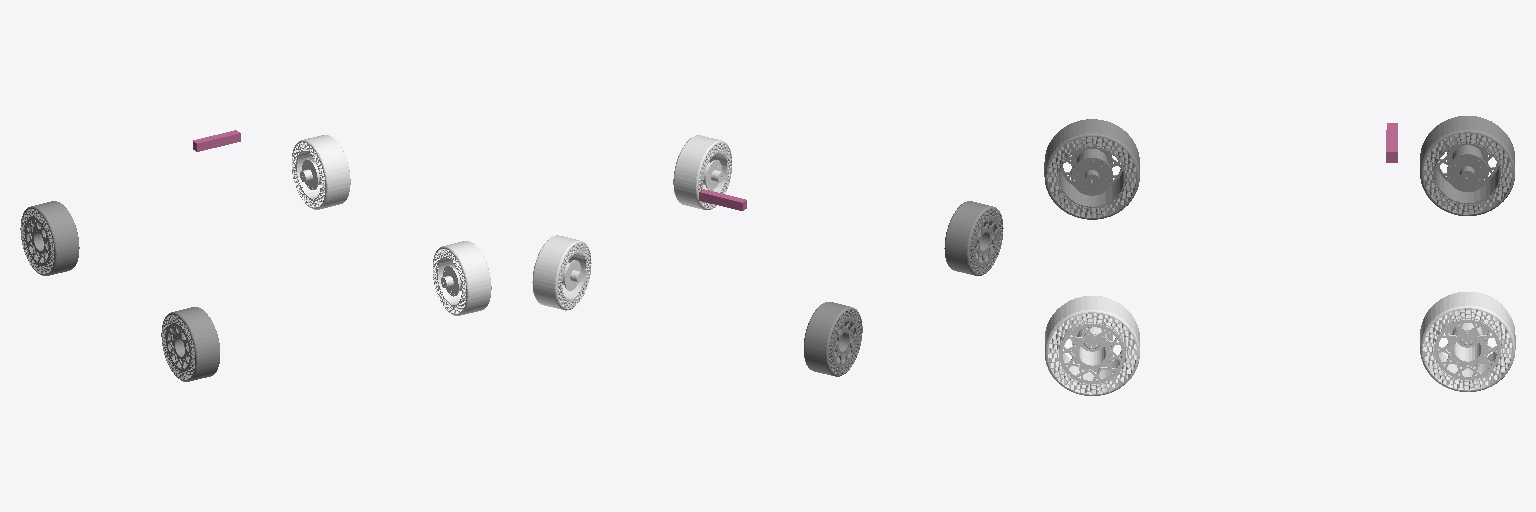
URDF robot description (sasi_solid_v12):
<?xml version="1.0" encoding="utf-8"?>
<!-- This URDF was automatically created by SolidWorks to URDF Exporter! Originally created by [author] ([email redacted]) 
     Commit Version: 1.6.0-1-g15f4949  Build Version: 1.6.7594.29634
     For more information, please see http://wiki.ros.org/sw_urdf_exporter -->
<robot
  name="sasi_solid_v12" xmlns:xacro="http://www.ros.org/wiki/xacro">

  <!-- <link name="dummy">
  </link>
  
  <joint name="dummy_joint" type="fixed">
    <parent link="dummy"/>
    <child link="base_link"/>
  </joint> -->

  <link
    name="base_link">
    <inertial>
      <origin
        xyz="-0.231091488414938 0.283170654508655 0.0907756925294726"
        rpy="0 0 0" />
      <mass
        value="4.04974915471266" />
      <inertia
        ixx="0.0343167702681818"
        ixy="-2.95693498374549E-08"
        ixz="-3.77683449159235E-10"
        iyy="0.0196592423407753"
        iyz="-5.11903308272849E-05"
        izz="0.0450230429432222" />
    </inertial>
    <visual>
      <origin
        xyz="0 0 0"
        rpy="0 0 0" />
      <geometry>
        <mesh
          filename="package://sasi_solid_v12/meshes/base_link.STL" />
      </geometry>
      <material
        name="">
        <color
          rgba="0.752941176470588 0.752941176470588 0.752941176470588 1" />
      </material>
    </visual>
    <collision>
      <origin
        xyz="0 0 0"
        rpy="0 0 0" />
      <geometry>
        <mesh
          filename="package://sasi_solid_v12/meshes/base_link.STL" />
      </geometry>
    </collision>
  </link>
  <link
    name="rigth_front">
    <inertial>
      <origin
        xyz="0.00036673709064694 0.0724396234696468 0.000114307396850921"
        rpy="0 0 0" />
      <mass
        value="1.52825500377755" />
      <inertia
        ixx="0.00881094374513575"
        ixy="-6.47853797090928E-18"
        ixz="-2.68882138776405E-17"
        iyy="0.0153748645829108"
        iyz="2.69498937255981E-17"
        izz="0.00881094374005171" />
    </inertial>
    <visual>
      <origin
        xyz="0 0 0"
        rpy="0 0 0" />
      <geometry>
        <mesh
          filename="package://sasi_solid_v12/meshes/rigth_front.STL" />
      </geometry>
      <material
        name="">
        <color
          rgba="0.627450980392157 0.627450980392157 0.627450980392157 1" />
      </material>
    </visual>
    <collision>
      <origin
        xyz="0 0 0"
        rpy="0 0 0" />
      <geometry>
        <mesh
          filename="package://sasi_solid_v12/meshes/rigth_front.STL" />
      </geometry>
    </collision>
  </link>
  <joint
    name="rigth_fronty"
    type="continuous">
    <origin
      xyz="-0.70359 0.79776 -0.075106"
      rpy="-3.1416 0.75556 -1.5708" />
    <parent
      link="base_link" />
    <child
      link="rigth_front" />
    <axis
      xyz="0 1 0" />
  </joint>
  <link
    name="rigth_back">
    <inertial>
      <origin
        xyz="-0.000382814127539072 -0.0724396234696458 3.18687690905317E-05"
        rpy="0 0 0" />
      <mass
        value="1.52825500377755" />
      <inertia
        ixx="0.00881094374513578"
        ixy="5.08079478164671E-18"
        ixz="-4.22838847269347E-17"
        iyy="0.0153748645829109"
        iyz="4.44833452653767E-17"
        izz="0.00881094374005174" />
    </inertial>
    <visual>
      <origin
        xyz="0 0 0"
        rpy="0 0 0" />
      <geometry>
        <mesh
          filename="package://sasi_solid_v12/meshes/rigth_back.STL" />
      </geometry>
      <material
        name="">
        <color
          rgba="0.627450980392157 0.627450980392157 0.627450980392157 1" />
      </material>
    </visual>
    <collision>
      <origin
        xyz="0 0 0"
        rpy="0 0 0" />
      <geometry>
        <mesh
          filename="package://sasi_solid_v12/meshes/rigth_back.STL" />
      </geometry>
    </collision>
  </link>
  <joint
    name="rigth_backy"
    type="continuous">
    <origin
      xyz="-0.70359 -0.18553 -0.085774"
      rpy="3.1416 1.1197 1.5708" />
    <parent
      link="base_link" />
    <child
      link="rigth_back" />
    <axis
      xyz="0 -1 0" />
  </joint>
  <link
    name="left_front">
    <inertial>
      <origin
        xyz="-4.55191440096314E-15 0.0724396234696457 -1.4432899320127E-15"
        rpy="0 0 0" />
      <mass
        value="1.52825500377756" />
      <inertia
        ixx="0.00881094374053719"
        ixy="-1.01929157001527E-17"
        ixz="1.4941260034762E-12"
        iyy="0.0153748645829109"
        iyz="6.05059594308728E-18"
        izz="0.0088109437446503" />
    </inertial>
    <visual>
      <origin
        xyz="0 0 0"
        rpy="0 0 0" />
      <geometry>
        <mesh
          filename="package://sasi_solid_v12/meshes/left_front.STL" />
      </geometry>
      <material
        name="">
        <color
          rgba="0.96078431372549 0.96078431372549 0.964705882352941 1" />
      </material>
    </visual>
    <collision>
      <origin
        xyz="0 0 0"
        rpy="0 0 0" />
      <geometry>
        <mesh
          filename="package://sasi_solid_v12/meshes/left_front.STL" />
      </geometry>
    </collision>
  </link>
  <joint
    name="left_fronty"
    type="continuous">
    <origin
      xyz="0.24141 0.798 -0.074681"
      rpy="3.1416 1.251 1.5708" />
    <parent
      link="base_link" />
    <child
      link="left_front" />
    <axis
      xyz="0 -1 0" />
  </joint>
  <link
    name="left_back">
    <inertial>
      <origin
        xyz="-5.55111512312578E-17 0.0724396234696456 5.16253706450698E-15"
        rpy="0 0 0" />
      <mass
        value="1.52825500377756" />
      <inertia
        ixx="0.00881094374491599"
        ixy="-3.35765263869818E-18"
        ixz="1.03396902585012E-12"
        iyy="0.0153748645829109"
        iyz="9.25316516289008E-17"
        izz="0.00881094374027152" />
    </inertial>
    <visual>
      <origin
        xyz="0 0 0"
        rpy="0 0 0" />
      <geometry>
        <mesh
          filename="package://sasi_solid_v12/meshes/left_back.STL" />
      </geometry>
      <material
        name="">
        <color
          rgba="0.96078431372549 0.96078431372549 0.964705882352941 1" />
      </material>
    </visual>
    <collision>
      <origin
        xyz="0 0 0"
        rpy="0 0 0" />
      <geometry>
        <mesh
          filename="package://sasi_solid_v12/meshes/left_back.STL" />
      </geometry>
    </collision>
  </link>
  <joint
    name="left_backy"
    type="continuous">
    <origin
      xyz="0.24141 -0.18528 -0.086194"
      rpy="3.1416 0.13286 1.5708" />
    <parent
      link="base_link" />
    <child
      link="left_back" />
    <axis
      xyz="0 -1 0" />
  </joint>

<transmission name="left_front_tran">
  <type>transmission_interface/SimpleTransmission</type>
  <joint name="left_frontx">
    <hardwareInterface>hardware_interface/EffortJointInterface</hardwareInterface>
  </joint>
  <actuator name="left_front_actr">
    <hardwareInterface>hardware_interface/EffortJointInterface</hardwareInterface>
    <mechanicalReduction>1</mechanicalReduction>
  </actuator>
</transmission>

<transmission name="left_back_tran">
  <type>transmission_interface/SimpleTransmission</type>
  <joint name="left_backx">
    <hardwareInterface>hardware_interface/EffortJointInterface</hardwareInterface>
  </joint>
  <actuator name="left_back_actr">
    <hardwareInterface>hardware_interface/EffortJointInterface</hardwareInterface>
    <mechanicalReduction>1</mechanicalReduction>
  </actuator>
</transmission>

<transmission name="rigth_back_tran">
  <type>transmission_interface/SimpleTransmission</type>
  <joint name="rigth_backx">
    <hardwareInterface>hardware_interface/EffortJointInterface</hardwareInterface>
  </joint>
  <actuator name="rigth_back_actr">
    <hardwareInterface>hardware_interface/EffortJointInterface</hardwareInterface>
    <mechanicalReduction>1</mechanicalReduction>
  </actuator>
</transmission>

<transmission name="rigth_front_tran">
  <type>transmission_interface/SimpleTransmission</type>
  <joint name="rigth_frontx">
    <hardwareInterface>hardware_interface/EffortJointInterface</hardwareInterface>
  </joint>
  <actuator name="rigth_front_actr">
    <hardwareInterface>hardware_interface/EffortJointInterface</hardwareInterface>
    <mechanicalReduction>1</mechanicalReduction>
  </actuator>
</transmission>

<!--ADD SKID STEERING-->
<gazebo>
  <plugin name="skid_steer_drive_controller" filename="libgazebo_ros_skid_steer_drive.so">
    <updateRate>100.0</updateRate>
    <robotNamespace>/</robotNamespace>
    <leftFrontJoint>left_fronty</leftFrontJoint>
    <rightFrontJoint>rigth_fronty</rightFrontJoint>
    <leftRearJoint>left_backy</leftRearJoint>
    <rightRearJoint>rigth_backy</rightRearJoint>
    <wheelSeparation>1.02</wheelSeparation>
    <wheelDiameter>0.25</wheelDiameter>
    <robotBaseFrame>base_link</robotBaseFrame>
    <torque>15</torque>
    <topicName>cmd_vel</topicName>
    <odometryTopic>odom</odometryTopic>
    <odometryFrame>odom</odometryFrame>
    <odometrySource>1</odometrySource>
    <broadcastTF>true</broadcastTF>
  </plugin>
</gazebo>
<!-- 
#ADD VELODYNE 3D LIDAR#
<joint name="velodyne_base_mount_joint" type="fixed">
    <origin rpy="0 0 1.55" xyz="-0.23 0.65 0.15"/>
    <parent link="base_link"/>
    <child link="velodyne_base_link"/>
  </joint>
  <link name="velodyne_base_link">
    <inertial>
      <mass value="0.83"/>
      <origin xyz="0 0 0.03585"/>
      <inertia ixx="0.000908059425" ixy="0" ixz="0" iyy="0.000908059425" iyz="0" izz="0.0011049624"/>
    </inertial>
    <visual>
      <geometry>
        <mesh filename="package://velodyne_description/meshes/VLP16_base_1.dae"/>
      </geometry>
    </visual>
    <visual>
      <geometry>
        <mesh filename="package://velodyne_description/meshes/VLP16_base_2.dae"/>
      </geometry>
    </visual>
    <collision>
      <origin rpy="0 0 0" xyz="0 0 0.03585"/>
      <geometry>
        <cylinder length="0.0717" radius="0.0516"/>
      </geometry>
    </collision>
  </link>
  <joint name="velodyne_base_scan_joint" type="fixed">
    <origin rpy="0 0 0" xyz="0 0 0.0377"/>
    <parent link="velodyne_base_link"/>
    <child link="velodyne"/>
  </joint>
  <link name="velodyne">
    <inertial>
      <mass value="0.01"/>
      <origin xyz="0 0 0"/>
      <inertia ixx="1e-7" ixy="0" ixz="0" iyy="1e-7" iyz="0" izz="1e-7"/>
    </inertial>
    <visual>
      <origin xyz="0 0 -0.0377"/>
      <geometry>
        <mesh filename="package://velodyne_description/meshes/VLP16_scan.dae"/>
      </geometry>
    </visual>
  </link>

  <gazebo reference="velodyne">
    <sensor name="velodyne-VLP16" type="ray">
      <pose>0 0 0 0 0 0</pose>
      <visualize>false</visualize>
      <update_rate>10</update_rate>
      <ray>
        <scan>
          <horizontal>
            <samples>440</samples>
            <resolution>1</resolution>
            <min_angle>-1.54</min_angle>
            <max_angle>1.54</max_angle>
          </horizontal>
          <vertical>
            <samples>16</samples>
            <resolution>1</resolution>
            <min_angle>-0.13</min_angle>
            <max_angle> 0.13</max_angle>
          </vertical>
        </scan>
        <range>
          <min>0.3</min>
          <max>131.0</max>
          <resolution>0.001</resolution>
        </range>
        <noise>
          <type>gaussian</type>
          <mean>0.0</mean>
          <stddev>0.0</stddev>
        </noise>
      </ray>
      <plugin filename="libgazebo_ros_velodyne_laser.so" name="gazebo_ros_laser_controller">
        <topicName>/velodyne_points</topicName>
        <frameName>velodyne</frameName>
        <organize_cloud>false</organize_cloud>
        <min_range>0.9</min_range>
        <max_range>130.0</max_range>
        <gaussianNoise>0.008</gaussianNoise>
      </plugin>
    </sensor>
  </gazebo>
 -->
<!-- 2D lidar --> 
<gazebo reference="hokuyo_link">
  <sensor type="ray" name="head_hokuyo_sensor">
    <pose>0 0 0 0 0 0</pose>
    <visualize>true</visualize>
    <update_rate>40</update_rate>
    <ray>
      <scan>
        <horizontal>
         <samples>720</samples>
         <resolution>1</resolution>
         <min_angle>-1.570796</min_angle>
         <max_angle>1.570796</max_angle>
        </horizontal>
      </scan>
      <range>
        <min>0.10</min>
        <max>5.0</max>
        <resolution>0.01</resolution>
      </range>
     <noise>
        <type>gaussian</type>
        <mean>0.0</mean>
        <stddev>0.01</stddev>
     </noise>
    </ray>
    <plugin name="gazebo_ros_head_hokuyo_controller" filename="libgazebo_ros_laser.so">
      <topicName>/laser/scan</topicName>
      <frameName>hokuyo_link</frameName>
    </plugin>
  </sensor>
</gazebo>

<!--ADD HOKUYO LIDAR JOINT-->
<joint name="hokuyo_joint" type="fixed">
  <axis xyz="0 1 0" />
  <origin xyz="-0.22 0.6 0.15" rpy="0 0 1.54"/>
  <parent link="base_link"/>
  <child link="hokuyo_link"/>
</joint>

<!-- HOKUYO LIDAR LINK -->
<link name="hokuyo_link">
  <collision>
    <origin xyz="0 0 0" rpy="0 0 0"/>
    <geometry>
  <box size="0.1 0.1 0.1"/>
    </geometry>
  </collision>

  <visual>
    <origin xyz="0 0 0" rpy="0 0 0"/>
    <geometry>
      <mesh filename="package://sasi_solid_v12/meshes/hokuyo.dae"/>
    </geometry>
  </visual>

  <inertial>
    <mass value="1e-5" />
    <origin xyz="0 0 0" rpy="0 0 0"/>
    <inertia ixx="1e-6" ixy="0" ixz="0" iyy="1e-6" iyz="0" izz="1e-6" />
  </inertial>
</link>

<!--ADD CAMERA-->
<gazebo reference="camera_link">
  <sensor type="camera" name="camera1">
    <update_rate>30.0</update_rate>
    <camera name="head">
      <horizontal_fov>1.3962634</horizontal_fov>
      <image>
        <width>1280</width>
        <height>720</height>
        <format>R8G8B8</format>
      </image>
      <clip>
        <near>0.02</near>
        <far>300</far>
      </clip>
      <noise>
        <type>gaussian</type>
        <!-- Noise is sampled independently per pixel on each frame.
              That pixel's noise value is added to each of its color
              channels, which at that point lie in the range [0,1]. -->
        <mean>0.0</mean>
        <stddev>0.007</stddev>
      </noise>
    </camera>
    <plugin name="camera_controller" filename="libgazebo_ros_camera.so">
      <alwaysOn>true</alwaysOn>
      <updateRate>0.0</updateRate>
      <cameraName>gazebo/camera1</cameraName>
      <imageTopicName>image_raw</imageTopicName>
      <cameraInfoTopicName>camera_info</cameraInfoTopicName>
      <frameName>camera_link</frameName>
      <hackBaseline>0.07</hackBaseline>
      <distortionK1>0.0</distortionK1>
      <distortionK2>0.0</distortionK2>
      <distortionK3>0.0</distortionK3>
      <distortionT1>0.0</distortionT1>
      <distortionT2>0.0</distortionT2>
    </plugin>
  </sensor>
</gazebo>

<!--ADD CAMERA JOINT-->  
<joint name="camera_joint" type="fixed">
  <axis xyz="0 1 0" />
  <origin xyz="-0.22 0.6 0.25" rpy="0 0 1.54"/>
  <parent link="base_link"/>
  <child link="camera_link"/>
</joint>

<!--ADD CAMERA LINK-->  
<link name="camera_link">
  <collision>
    <origin xyz="0 0 0" rpy="0 0 0"/>
    <geometry>
  <box size="0.175 0.03 0.033"/>
    </geometry>
  </collision>

  <visual>
    <origin xyz="0 0 0" rpy="0 0 1.6"/>
    <geometry>
  <box size="0.175 0.03 0.033"/>
    </geometry>
    <material name="black"/>
  </visual>

  <inertial>
    <mass value="1e-5" />
    <origin xyz="0 0 0" rpy="0 0 0"/>
    <inertia ixx="1e-6" ixy="0" ixz="0" iyy="1e-6" iyz="0" izz="1e-6" />
  </inertial>
</link>
</robot>

--- Facts derived from the render (not from the file) ---
Views: 3 orthographic renders of the robot side by side, from view 1: azimuth 30°, elevation 25°; view 2: azimuth 150°, elevation 25°; view 3: azimuth 270°, elevation 25°.
Robot: sasi_solid_v12 — 7 links, 6 joints (4 continuous, 2 fixed); root link base_link; default pose: every joint at zero.
Links seen in each view (by area): view 1: left_back, rigth_back, left_front, rigth_front, camera_link; view 2: rigth_front, rigth_back, left_front, left_back, camera_link; view 3: rigth_back, left_front, left_back, rigth_front.
Boxes of the visible links, <box> form: left_back: <box>433,241,491,315</box>; rigth_back: <box>161,307,219,381</box>; left_front: <box>292,135,350,209</box>; rigth_front: <box>20,201,79,275</box>; camera_link: <box>193,130,240,151</box>; rigth_front: <box>804,302,862,376</box>; rigth_back: <box>944,201,1003,275</box>; left_front: <box>532,235,591,310</box>; left_back: <box>673,135,731,209</box>; camera_link: <box>699,189,746,210</box>; rigth_back: <box>1044,119,1139,219</box>; left_front: <box>1420,292,1515,391</box>; left_back: <box>1045,296,1139,395</box>; rigth_front: <box>1420,116,1514,215</box>.
Size in the robot's own frame: 1.19 by 1.23 by 0.4777 metres.
4 mesh visuals loaded from 6 distinct referenced files (4 binary STL); not drawn: 2 (reference not matched to a file when rendering).
